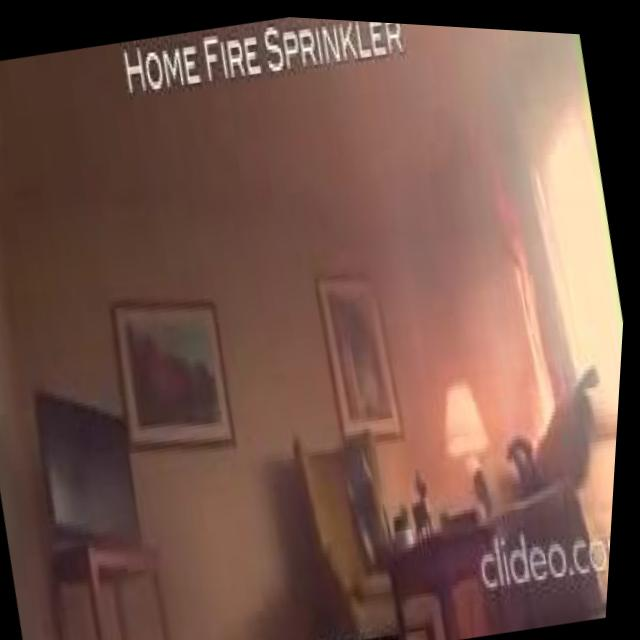fire: (470, 189, 581, 449)
